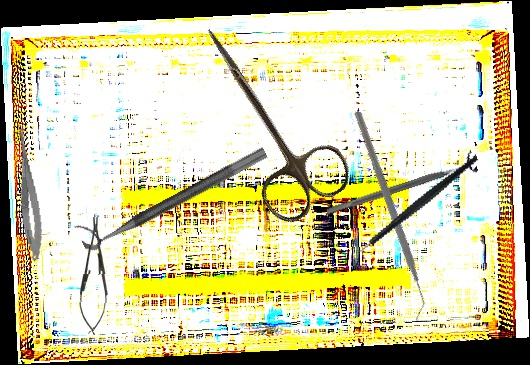Chopper: (277, 109, 497, 322), (332, 153, 499, 269)
Fixation Ring: (73, 130, 269, 255), (323, 149, 479, 224)
Iris Scissors: (167, 6, 359, 231)
Micro Scissor: (8, 119, 47, 262)
Needle Holder: (78, 213, 111, 335)
